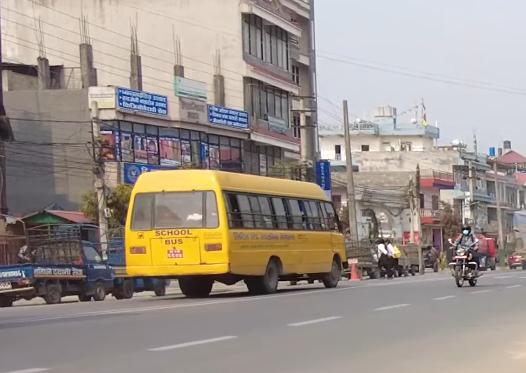bike: (448, 237, 484, 289)
mini_truck: (0, 233, 115, 305)
school_bus: (122, 165, 350, 298)
